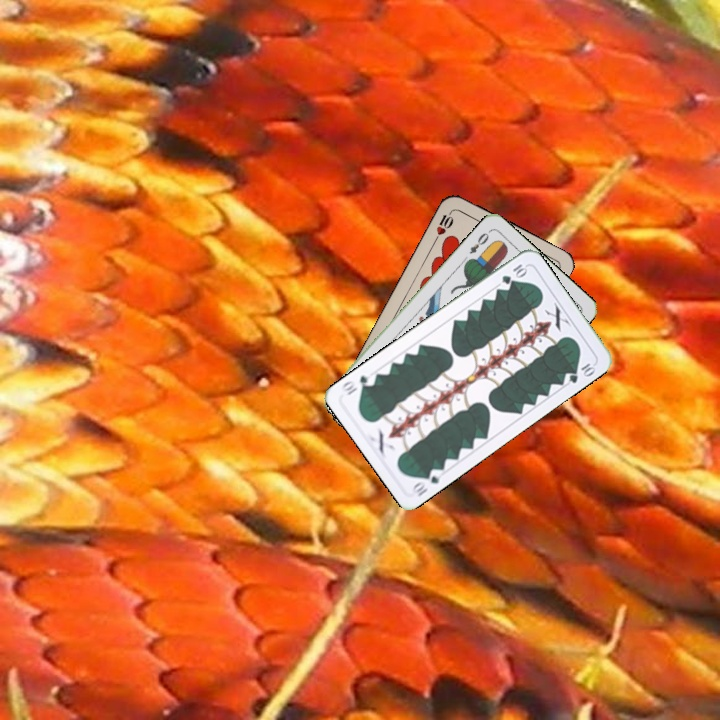EO: (465, 229, 492, 257)
G10: (408, 464, 446, 499), (498, 260, 531, 287)
H10: (430, 206, 456, 244)
